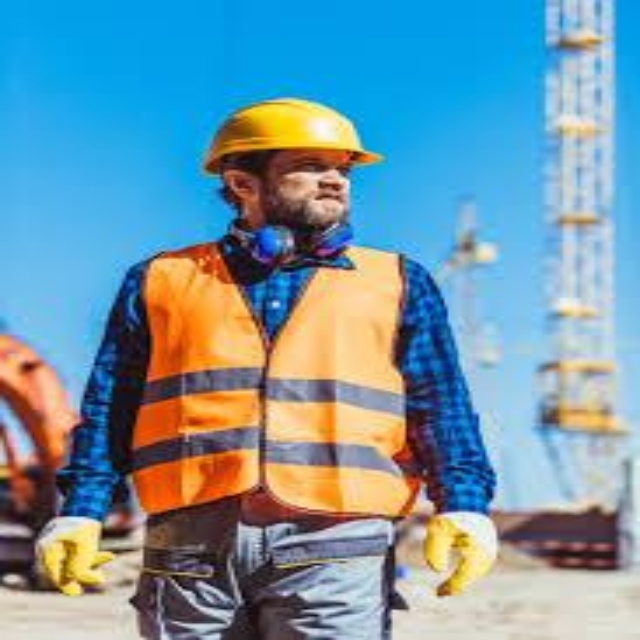Guantes: (31, 514, 112, 596), (420, 510, 497, 596)
